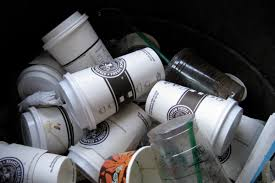cup: (54, 47, 169, 130)
